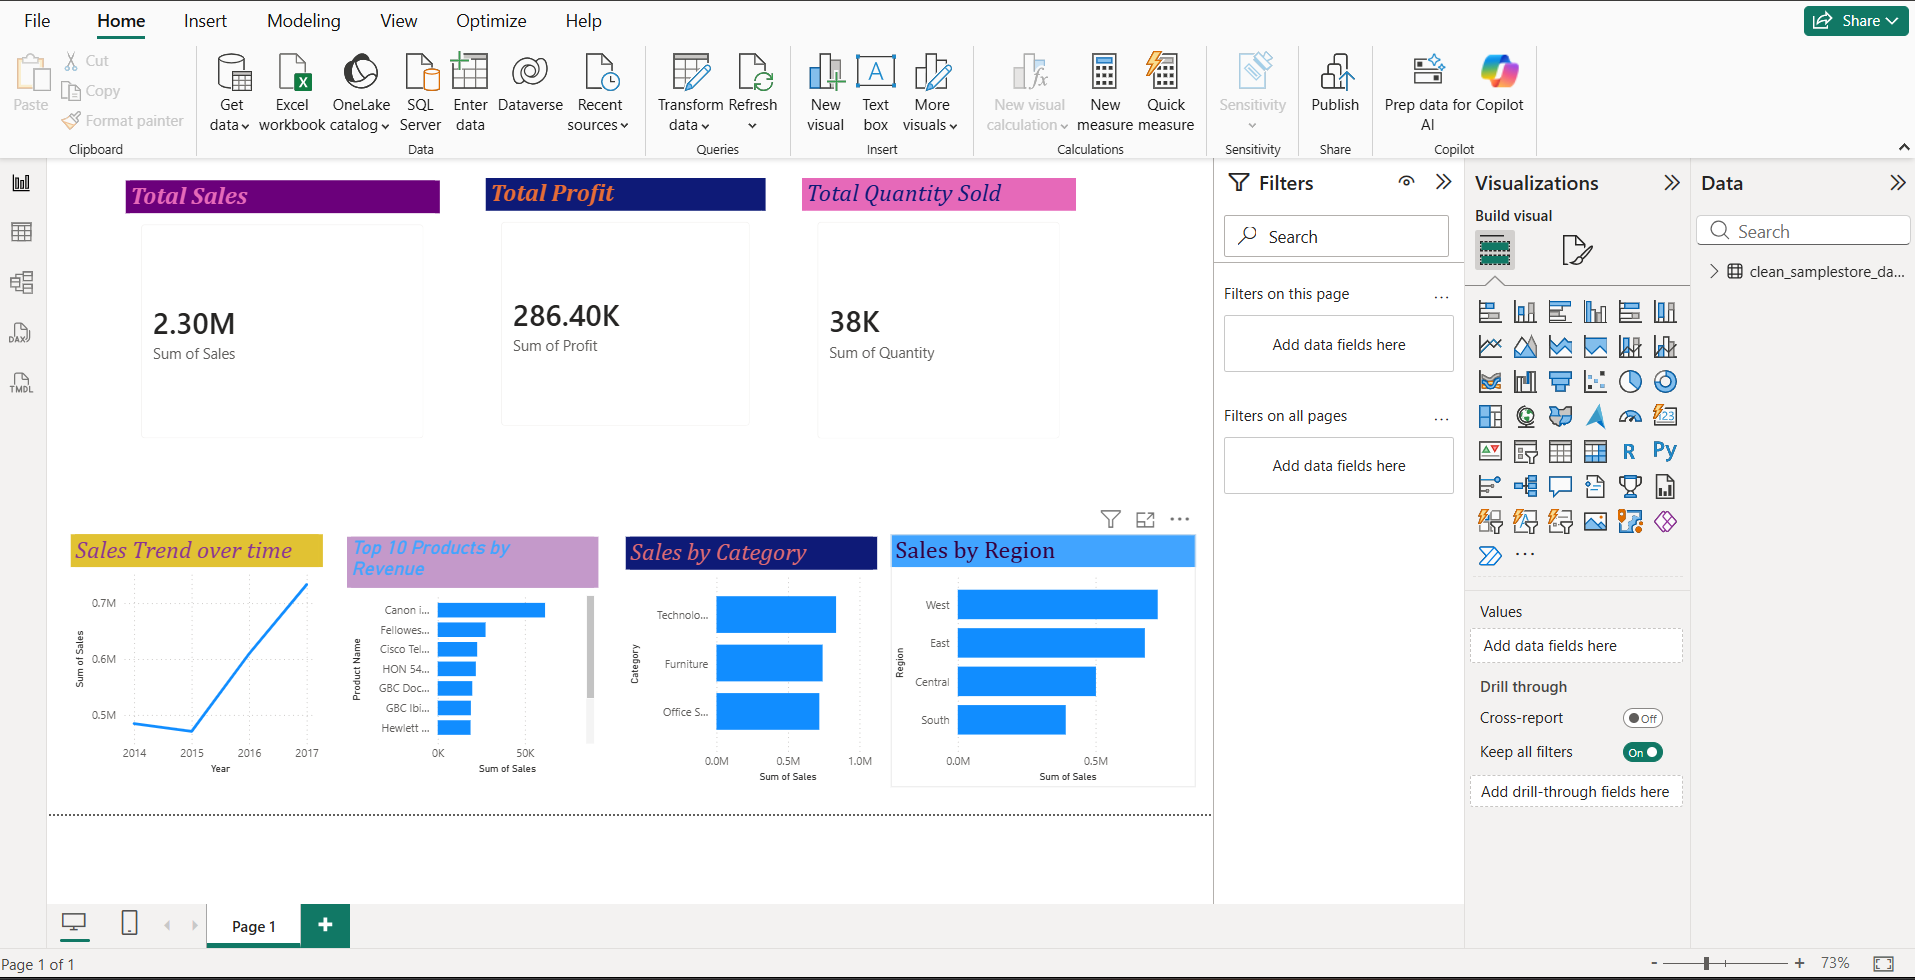

What the dashboard file says about the page in this screenshot:
{"tool":"powerbi","page":{"name":"Page 1","canvas":[1280,720],"ordinal":0},"visuals":[{"type":"lineChart","title":"Sales Trend over time","fields":{"Y":["Sum(clean_samplestore_dataset.Sales)"],"Category":["clean_samplestore_dataset.Order Date.Variation.Date Hierarchy.Year","clean_samplestore_dataset.Order Date.Variation.Date Hierarchy.Quarter","clean_samplestore_dataset.Order Date.Variation.Date Hierarchy.Month","clean_samplestore_dataset.Order Date.Variation.Date Hierarchy.Day"]},"box":[26.1,413,277.2,269],"z":0},{"type":"clusteredBarChart","title":"Sales by Category","fields":{"Category":["clean_samplestore_dataset.Category"],"Y":["Sum(clean_samplestore_dataset.Sales)"]},"box":[635.3,415.8,275.8,274.4],"z":1000},{"type":"clusteredBarChart","title":"Sales by Region","fields":{"Y":["Sum(clean_samplestore_dataset.Sales)"],"Category":["clean_samplestore_dataset.Region"]},"box":[926.2,413,334.8,277.2],"z":2000},{"type":"barChart","title":"Top 10 Products by Revenue","fields":{"Category":["clean_samplestore_dataset.Product Name"],"Y":["Sum(clean_samplestore_dataset.Sales)"]},"box":[329.3,415.8,275.8,266.2],"z":3000},{"type":"cardVisual","title":"Total Sales","fields":{"Data":["Sum(clean_samplestore_dataset.Sales)"]},"box":[86.4,24.7,344.4,300.5],"z":4000},{"type":"cardVisual","title":"Total Profit","fields":{"Data":["Sum(clean_samplestore_dataset.Profit)"]},"box":[481.6,22,307.4,289.5],"z":5000},{"type":"cardVisual","title":"Total Quantity Sold","fields":{"Data":["Sum(clean_samplestore_dataset.Quantity)"]},"box":[828.8,22,300.5,303.3],"z":6000}]}

Visuals, with their boxes on the page's 1280x720 design canvas (x1, y1, x2, y2). These are canvas units, not pixel positions in the 1915x980 screenshot, which may show the page scaled, cropped or inside an application window:
"Sales Trend over time" lineChart: locate(26, 413, 303, 682)
"Sales by Category" clusteredBarChart: locate(635, 416, 911, 690)
"Sales by Region" clusteredBarChart: locate(926, 413, 1261, 690)
"Top 10 Products by Revenue" barChart: locate(329, 416, 605, 682)
"Total Sales" cardVisual: locate(86, 25, 431, 325)
"Total Profit" cardVisual: locate(482, 22, 789, 312)
"Total Quantity Sold" cardVisual: locate(829, 22, 1129, 325)
